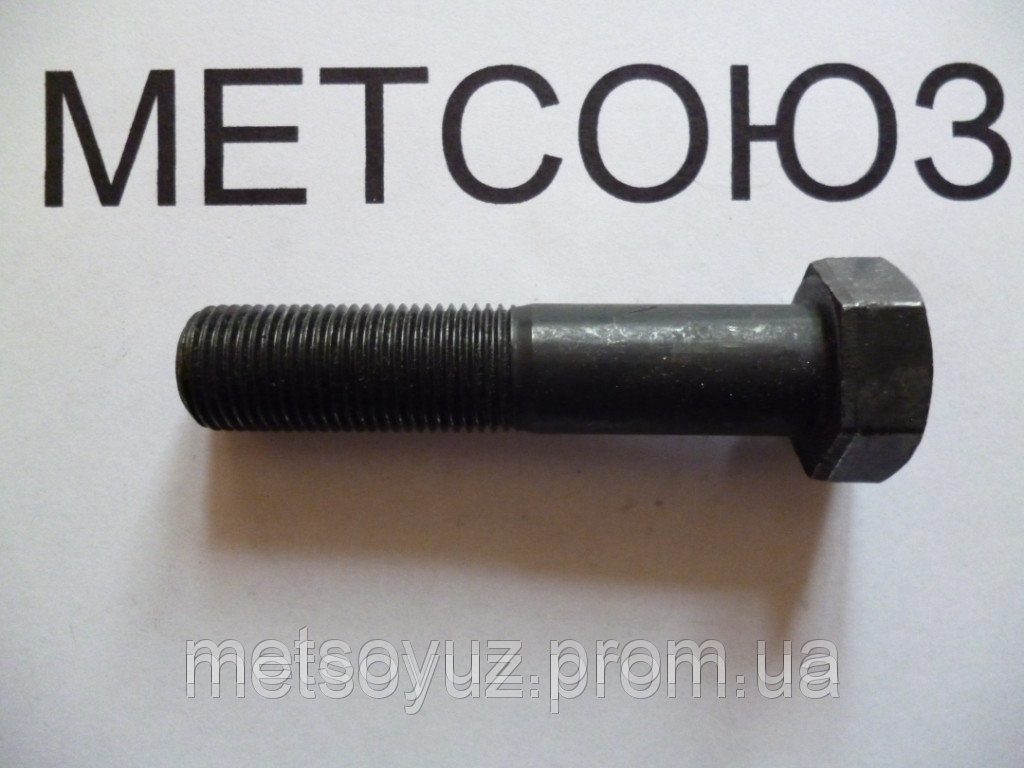screw: (173, 257, 935, 483)
